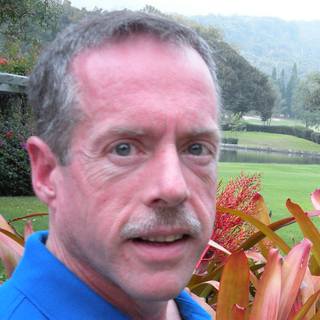eye: (101, 138, 147, 164), (178, 138, 220, 163)
